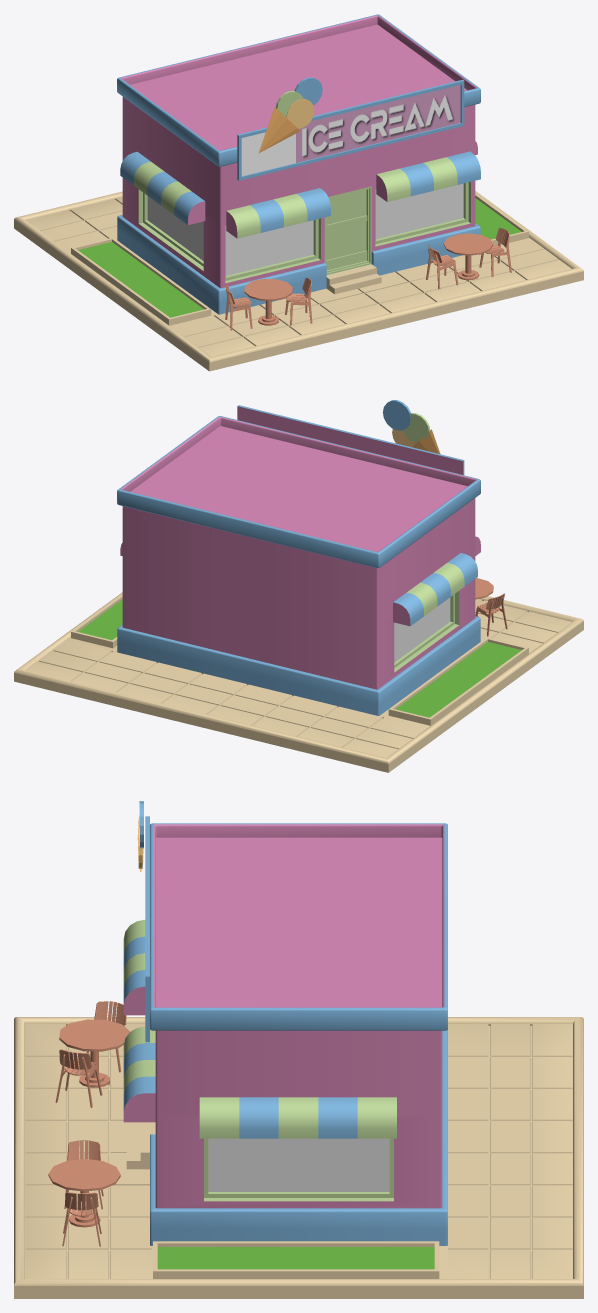
Rendered from commercial-building-ice-cream-shop.fbx.
3 renders of one model, top to bottom at view 1: azimuth 30°, elevation 25°; view 2: azimuth 150°, elevation 25°; view 3: azimuth 270°, elevation 25°, orthographic. The views are drawn at different scales.
Visible parts, largest first — view 1: commercial-building-ice-cream-shop; view 2: commercial-building-ice-cream-shop; view 3: commercial-building-ice-cream-shop.
Boxes of the visible parts, x1,y1,x2,y2 form: commercial-building-ice-cream-shop: (14, 14, 583, 371); commercial-building-ice-cream-shop: (14, 400, 583, 772); commercial-building-ice-cream-shop: (14, 801, 583, 1298).
Size of the model in its own units: 11.73 by 6.78 by 10.61.
